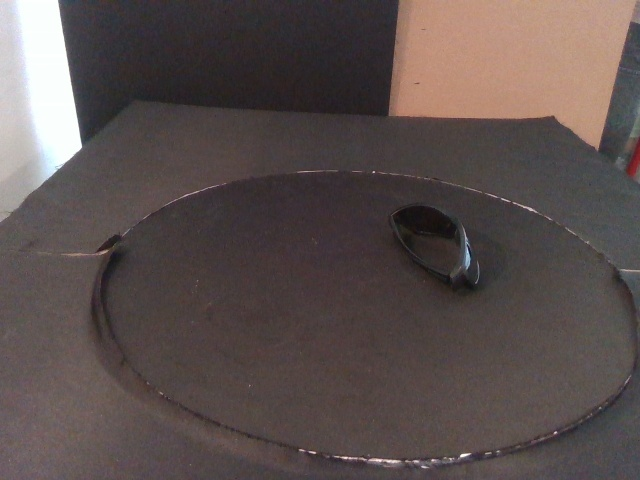glasses: (386, 198, 481, 294)
